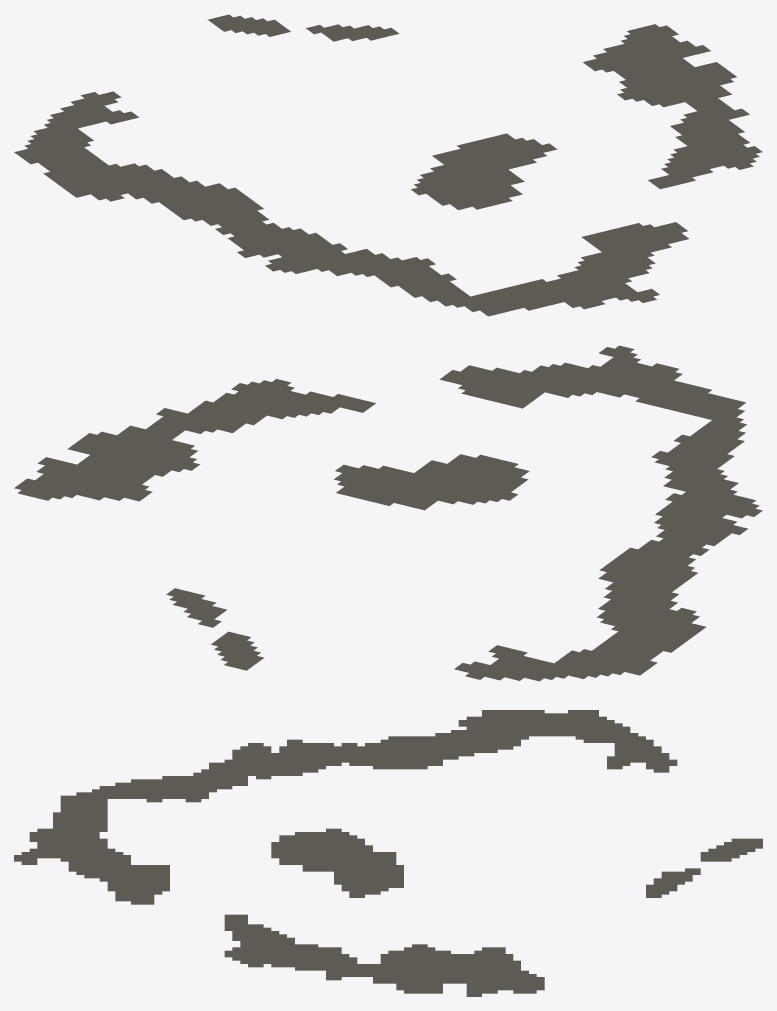
File: Isl-flat2-NoBuildArea.fbx
The picture shows the model from 3 angles, top to bottom: view 1: azimuth 30°, elevation 25°; view 2: azimuth 150°, elevation 25°; view 3: azimuth 270°, elevation 25°; orthographic projection. The views are drawn at different scales.
Visible parts, largest first — view 1: Isl-flat2-NoBuildArea; view 2: Isl-flat2-NoBuildArea; view 3: Isl-flat2-NoBuildArea.
Part boxes in pixels (bbox=[...]): Isl-flat2-NoBuildArea: bbox=[14, 14, 762, 316]; Isl-flat2-NoBuildArea: bbox=[14, 345, 762, 681]; Isl-flat2-NoBuildArea: bbox=[14, 710, 762, 996].
Bounding box in the file's own units: 87 × 0 × 96.
